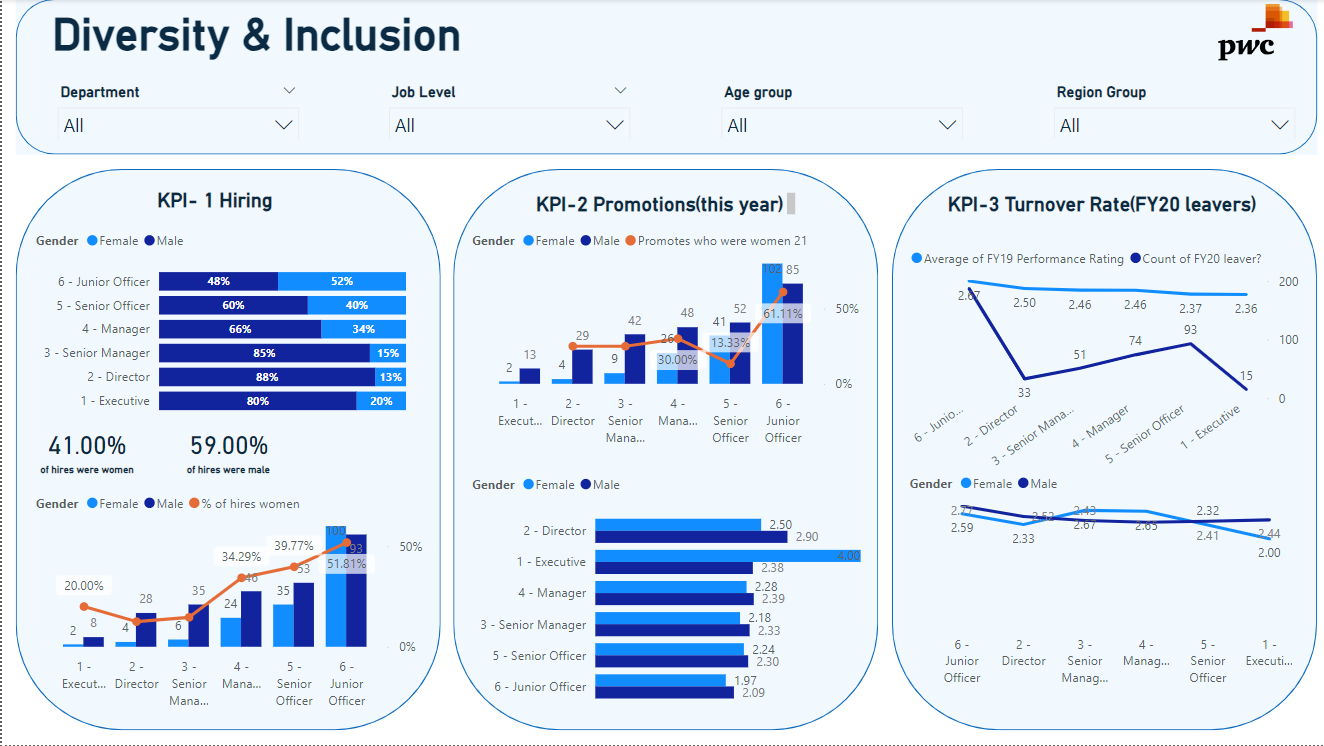

The dashboard page shown, as its layout file describes it:
{"tool":"powerbi","page":{"name":"Diversity  1","canvas":[1280,720],"ordinal":0},"visuals":[{"type":"shape","box":[12.9,164.3,410,541.4],"z":0},{"type":"shape","box":[12.9,0,1255.7,150],"z":1000},{"type":"textbox","box":[42.9,4.3,417.1,60],"z":2000},{"type":"image","box":[1161.4,0,95.7,64.3],"z":3000},{"type":"slicer","fields":{"Values":["Pharma Group AG.Department @01.07.2020"]},"box":[42.9,75.7,252.9,58.6],"z":4000},{"type":"slicer","fields":{"Values":["Pharma Group AG.Broad region group: nationality 1"]},"box":[1004.3,75.7,252.9,58.6],"z":5000},{"type":"slicer","fields":{"Values":["Pharma Group AG.Job Level before FY20 promotions"]},"box":[363.3,75.7,252.9,58.6],"z":6000},{"type":"slicer","fields":{"Values":["Pharma Group AG.Age group"]},"box":[683.8,75.7,252.9,58.6],"z":7000},{"type":"shape","box":[858.6,164.3,410,541.4],"z":8000},{"type":"shape","box":[435.7,164.3,410,541.4],"z":9000},{"type":"textbox","box":[145,178,146,35],"z":10000},{"type":"textbox","box":[885,181.7,351.7,63.3],"z":11000},{"type":"textbox","box":[510,182,260,31],"z":12000},{"type":"hundredPercentStackedBarChart","fields":{"Category":["Pharma Group AG.Job Level before FY20 promotions"],"Series":["Pharma Group AG.Gender"],"Y":["CountNonNull(Pharma Group AG.Employee ID)"]},"box":[27.3,213.6,367.3,198.2],"z":13000},{"type":"card","fields":{"Values":["Key_Measures.Female"]},"box":[27.3,404.5,109.1,61.8],"z":14000},{"type":"card","fields":{"Values":["Key_Measures.Male"]},"box":[163.6,404.5,109.1,61.8],"z":15000},{"type":"lineClusteredColumnComboChart","fields":{"Category":["Pharma Group AG.Job Level before FY20 promotions"],"Series":["Pharma Group AG.Gender"],"Y":["CountNonNull(Pharma Group AG.Employee ID)"],"Y2":["Key_Measures.Female"]},"box":[27.3,466.4,383.6,225.5],"z":16000},{"type":"lineClusteredColumnComboChart","fields":{"Series":["Pharma Group AG.Gender"],"Y":["CountNonNull(Pharma Group AG.Employee ID)"],"Category":["Pharma Group AG.Job Level after FY20 promotions"],"Y2":["Key_Measures.Promotes who were women 2"]},"box":[448.8,213.8,383.8,225],"z":17000},{"type":"clusteredBarChart","fields":{"Category":["Pharma Group AG.Job Level after FY21 promotions"],"Series":["Pharma Group AG.Gender"],"Y":["Avg(Pharma Group AG.Time in Job Level @01.07.2020)"]},"box":[448.3,448.3,385,244.2],"z":18000},{"type":"lineChart","fields":{"Category":["Pharma Group AG.Job Level after FY20 promotions"],"Y":["Avg(Pharma Group AG.FY19 Performance Rating)"],"Y2":["CountNonNull(Pharma Group AG.FY20 leaver?)"]},"box":[872,230,385,236],"z":19000},{"type":"lineChart","fields":{"Category":["Pharma Group AG.Job Level after FY20 promotions"],"Y":["Avg(Pharma Group AG.FY19 Performance Rating)"],"Series":["Pharma Group AG.Gender"]},"box":[871,448,385,223],"z":20000}]}

Visuals, with their boxes in screenshot pixels (x1, y1, x2, y2), scaled from the page's 1280x720 canvas onto the 1324x746 screenshot:
shape: (13, 170, 437, 731)
shape: (13, 0, 1312, 155)
textbox: (44, 4, 476, 67)
image: (1201, 0, 1300, 67)
slicer - Pharma Group AG.Department @01.07.2020: (44, 78, 306, 139)
slicer - Pharma Group AG.Broad region group: nationality 1: (1039, 78, 1300, 139)
slicer - Pharma Group AG.Job Level before FY20 promotions: (376, 78, 637, 139)
slicer - Pharma Group AG.Age group: (707, 78, 969, 139)
shape: (888, 170, 1312, 731)
shape: (451, 170, 875, 731)
textbox: (150, 184, 301, 221)
textbox: (915, 188, 1279, 254)
textbox: (528, 189, 796, 221)
hundredPercentStackedBarChart - Pharma Group AG.Job Level before FY20 promotions x Pharma Group AG.Gender: (28, 221, 408, 427)
card - Key_Measures.Female: (28, 419, 141, 483)
card - Key_Measures.Male: (169, 419, 282, 483)
lineClusteredColumnComboChart - Pharma Group AG.Job Level before FY20 promotions x Pharma Group AG.Gender: (28, 483, 425, 717)
lineClusteredColumnComboChart - Pharma Group AG.Gender x CountNonNull(Pharma Group AG.Employee ID): (464, 222, 861, 455)
clusteredBarChart - Pharma Group AG.Job Level after FY21 promotions x Pharma Group AG.Gender: (464, 464, 862, 718)
lineChart - Pharma Group AG.Job Level after FY20 promotions x Avg(Pharma Group AG.FY19 Performance Rating): (902, 238, 1300, 483)
lineChart - Pharma Group AG.Job Level after FY20 promotions x Avg(Pharma Group AG.FY19 Performance Rating): (901, 464, 1299, 695)
